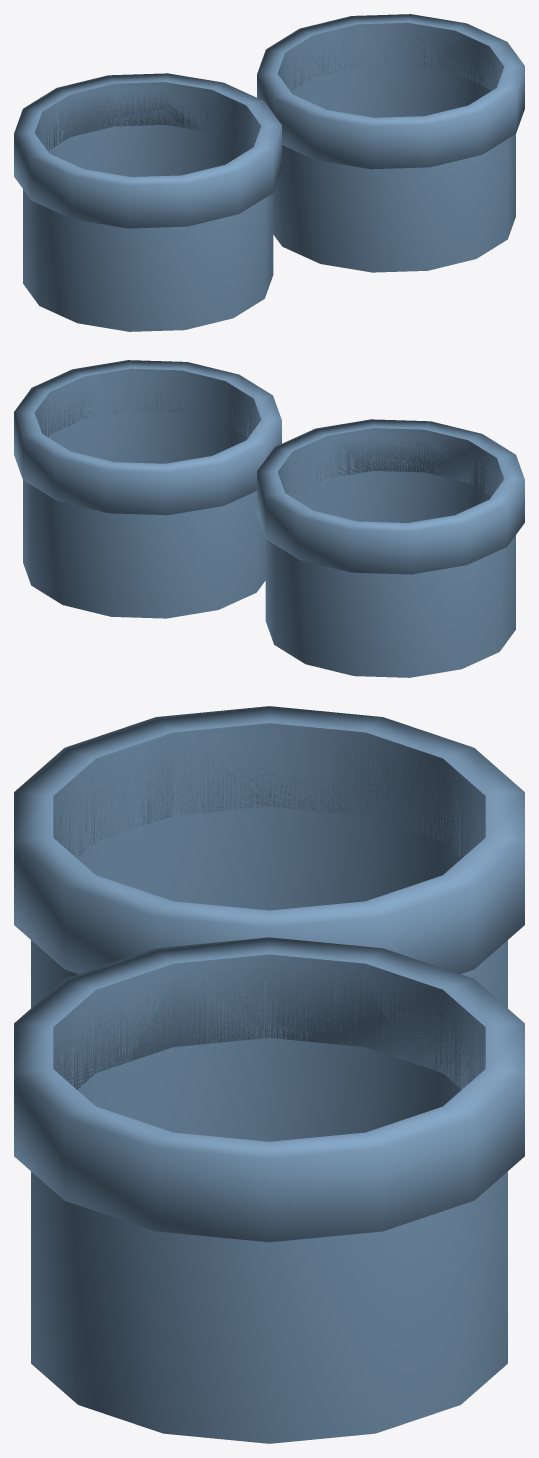
File: holey_socks.glb
The picture shows the model from 3 angles, top to bottom: view 1: azimuth 30°, elevation 25°; view 2: azimuth 150°, elevation 25°; view 3: azimuth 270°, elevation 25°; orthographic projection. The views are drawn at different scales.
Visible parts, largest first — view 1: holey_socks_LegL, holey_socks_LegR; view 2: holey_socks_LegL, holey_socks_LegR; view 3: holey_socks_LegR, holey_socks_LegL.
Part boxes in pixels (left/top/right/bottom): holey_socks_LegL: left=14, top=73, right=281, bottom=331; holey_socks_LegR: left=257, top=14, right=524, bottom=272; holey_socks_LegL: left=257, top=419, right=524, bottom=677; holey_socks_LegR: left=14, top=360, right=281, bottom=618; holey_socks_LegR: left=14, top=937, right=524, bottom=1443; holey_socks_LegL: left=14, top=706, right=524, bottom=1007.
Bounding box in the file's own units: 0.372 × 0.112 × 0.1774.
